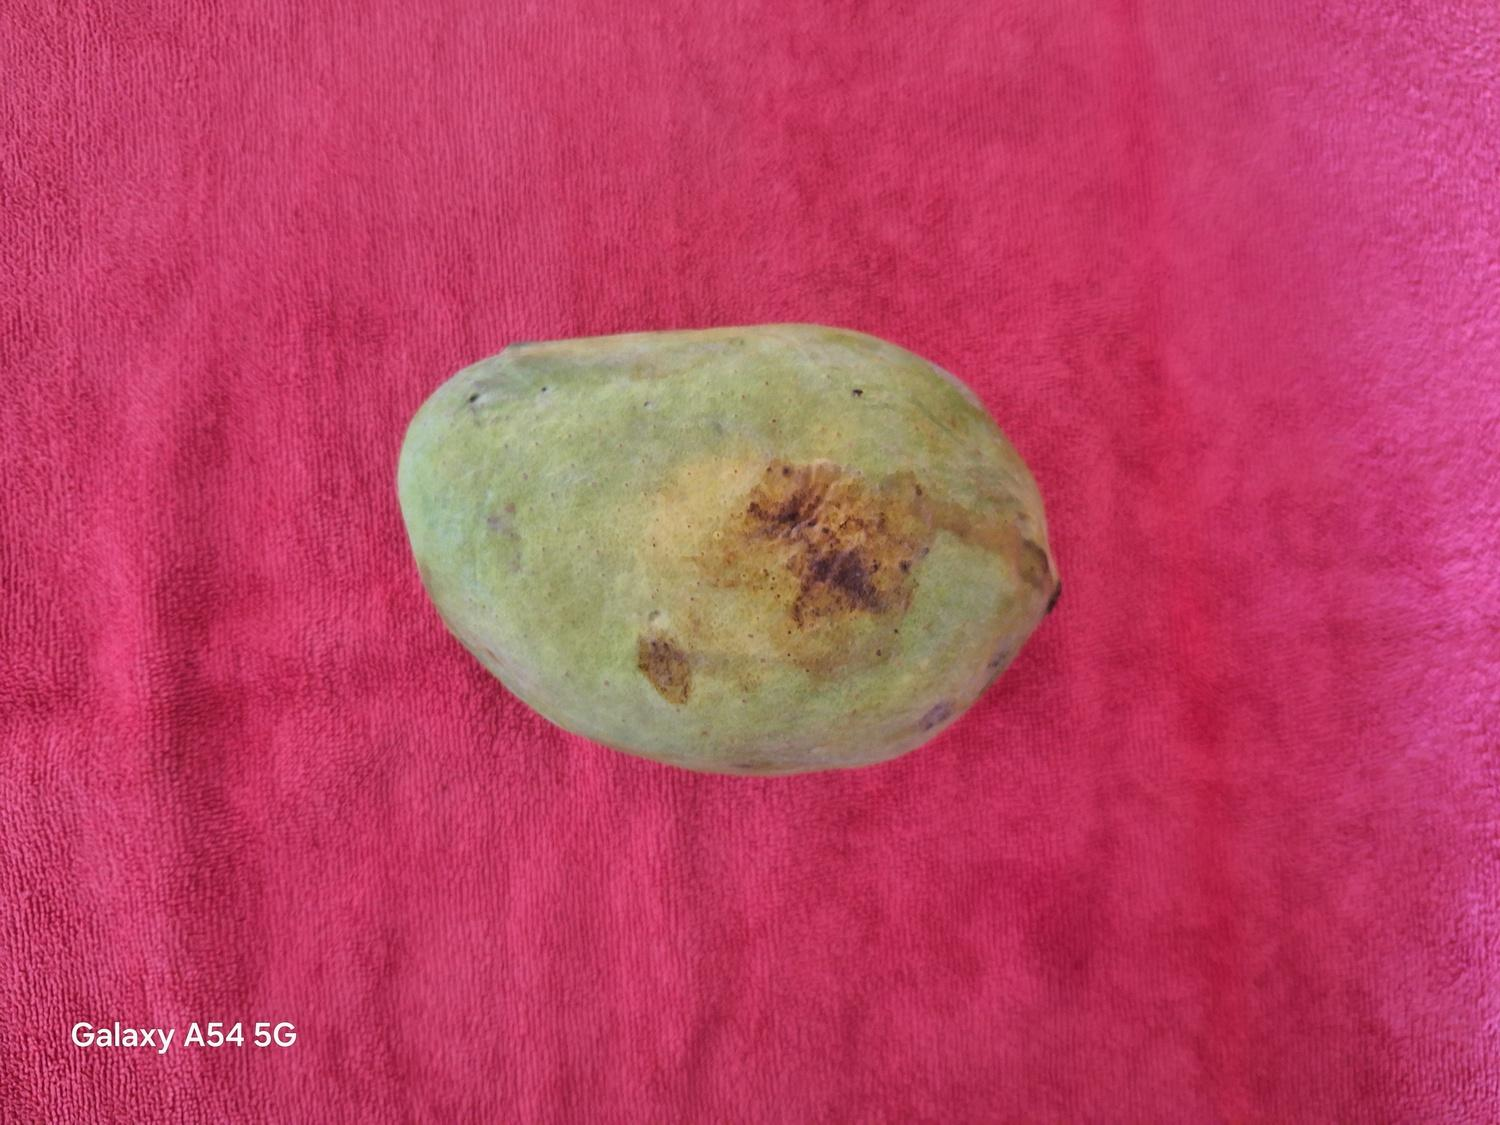mango: (394, 319, 1062, 778)
